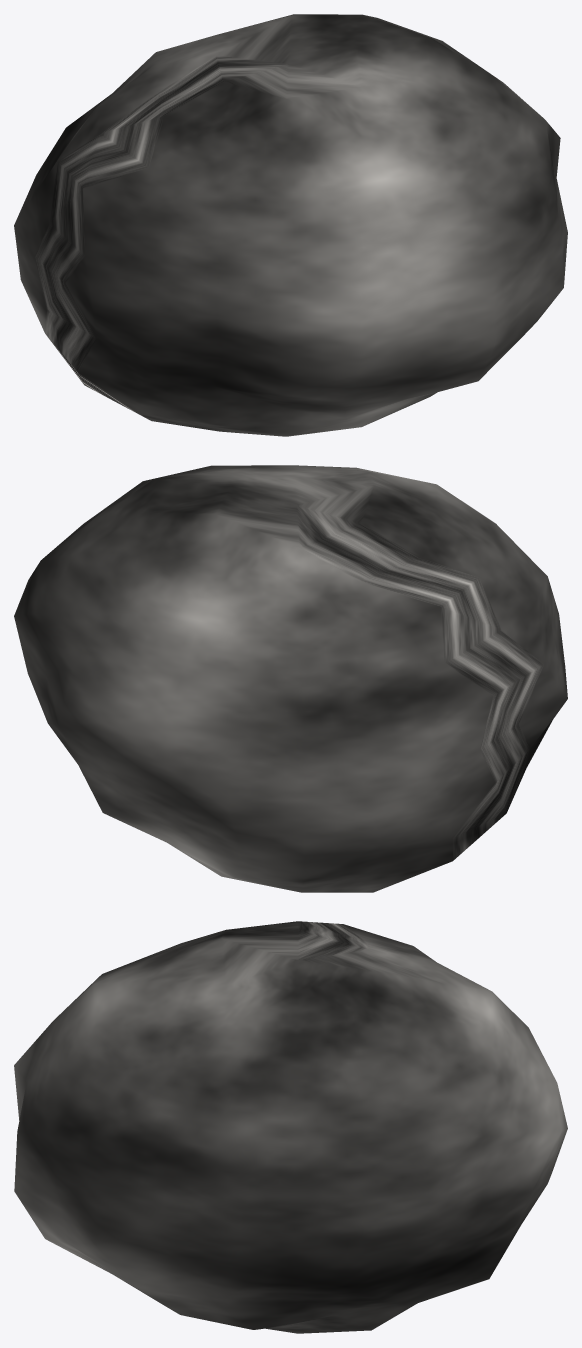
File: rock.glb
3 renders of one model, top to bottom at view 1: azimuth 30°, elevation 25°; view 2: azimuth 150°, elevation 25°; view 3: azimuth 270°, elevation 25°, orthographic.
Bounding box in the file's own units: 1.31 × 0.9075 × 1.29.
Materials: 1 (1 with a texture image).
